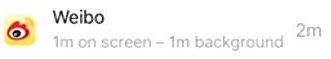name: (48, 5, 111, 28)
time: (167, 33, 193, 53), (51, 32, 76, 52)
